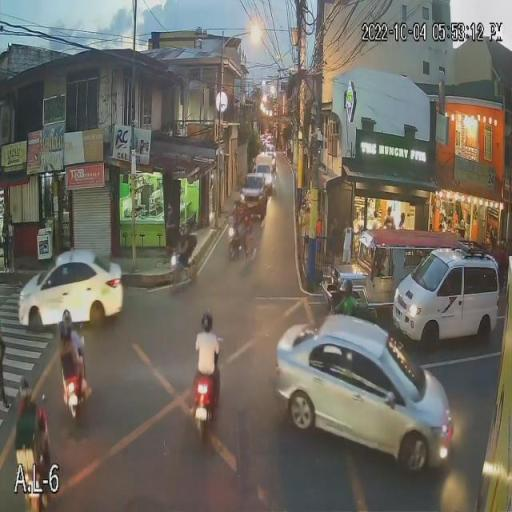helmet: (16, 376, 37, 406), (196, 306, 216, 333), (57, 311, 80, 330), (232, 209, 254, 228), (174, 224, 196, 242)
motorcycle: (19, 447, 57, 506), (189, 374, 221, 440), (160, 253, 203, 292), (57, 373, 89, 417), (223, 230, 266, 260)
rider: (14, 380, 46, 445), (196, 310, 222, 383), (58, 314, 84, 377), (332, 279, 364, 314), (180, 228, 195, 267), (233, 214, 250, 240)
